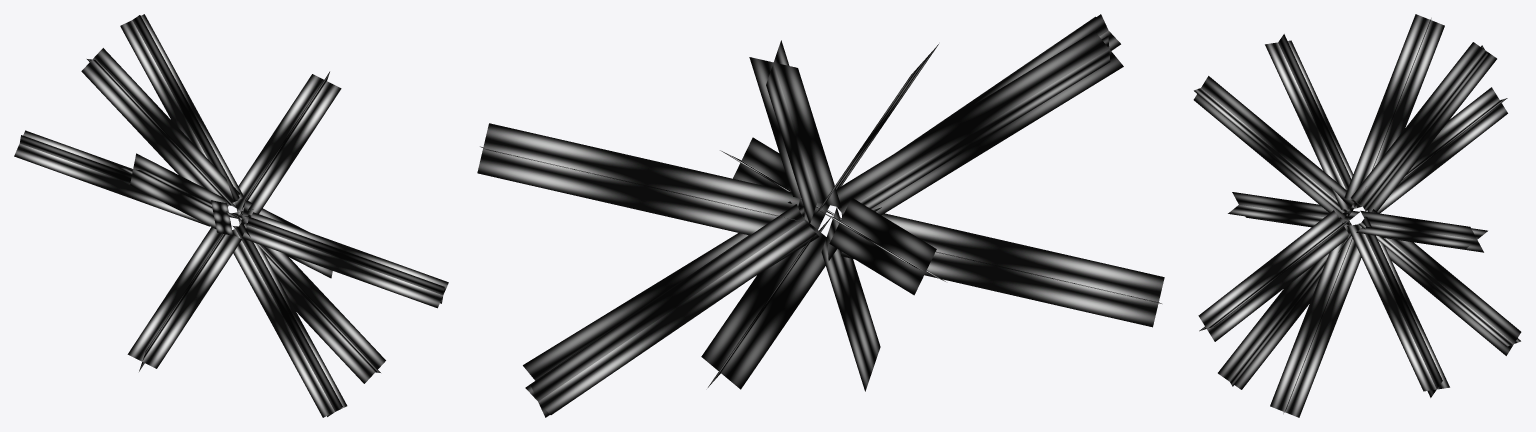
Rendered from vfx_kurp_0914.dae.
3 views of the same model, side by side, from view 1: azimuth 30°, elevation 25°; view 2: azimuth 150°, elevation 25°; view 3: azimuth 270°, elevation 25° (orthographic). The views are drawn at different scales.
Visible parts, largest first — view 1: vfx_kurp_0914; view 2: vfx_kurp_0914; view 3: vfx_kurp_0914.
Boxes of the visible parts, <box> form: vfx_kurp_0914: <box>14,14,448,417</box>; vfx_kurp_0914: <box>477,14,1164,417</box>; vfx_kurp_0914: <box>1193,14,1521,417</box>.
Bounding box in the file's own units: 16 × 14.51 × 15.47.
1 material, 1 textured.
